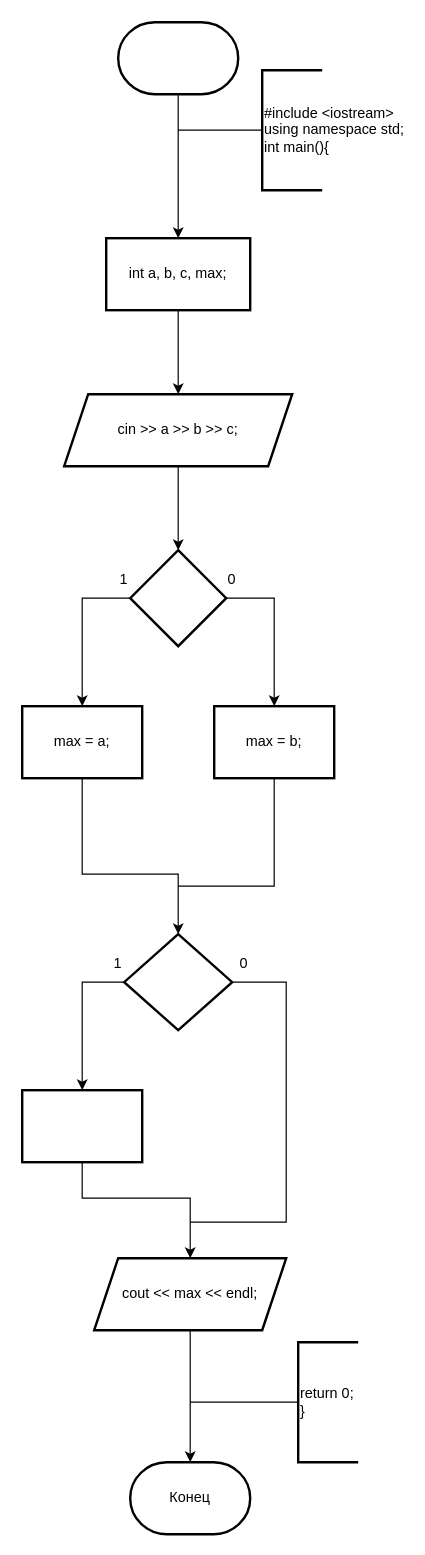
The diagram is 425 pixels wide and 1555 high, and some of its shapes have lost their labels. The shapes that lost their labels are listed below. From the top down, each one's centre as x and y in pixels, then its label:
(177,57): Начало
(177,597): if (a >= b)
(177,981): if (c > max);
(81,1125): max = c;
